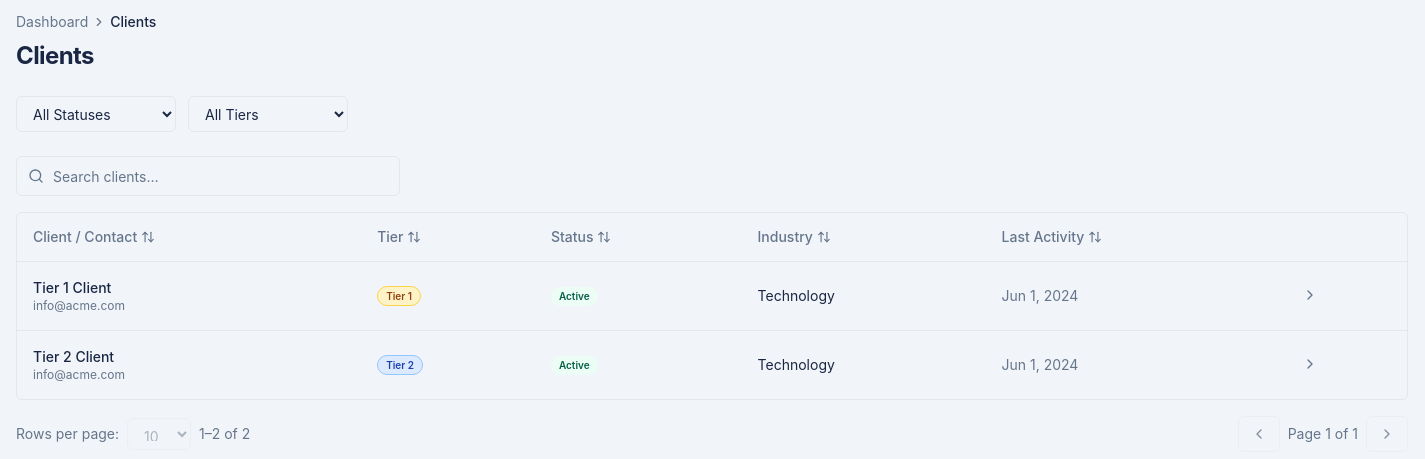
Scenario: ClientsView › filters by tier when tier dropdown changes
This screenshot has width=1425, height=459.
Select "Tier 1" in the dropdown named "Filter by tier". click: (268, 114)
box: [188,96,348,132]
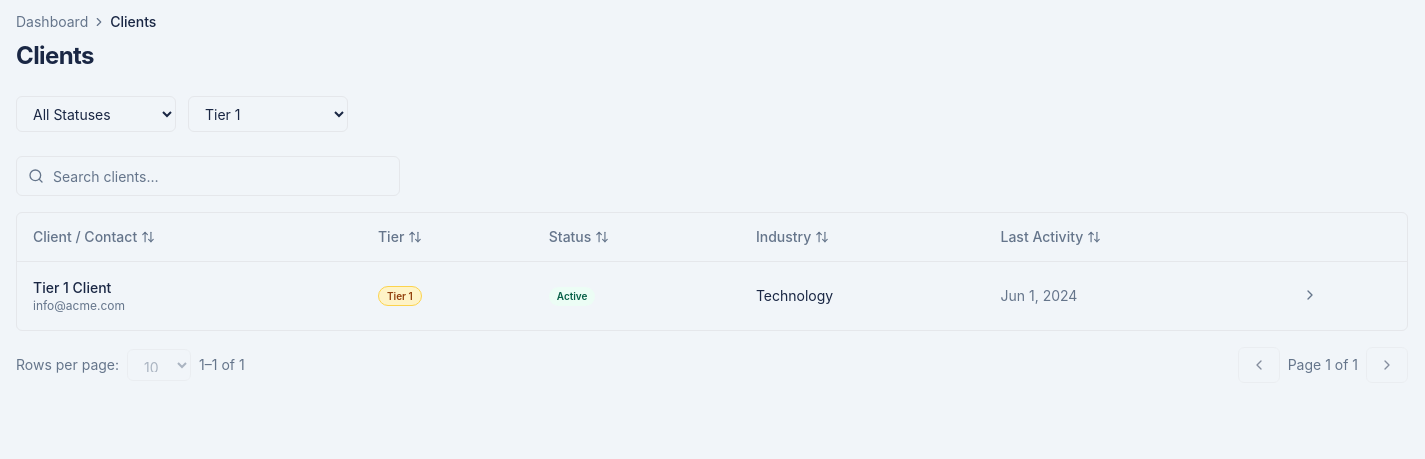
Expected: the text "Tier 1 Client" is shown, [33,278,111,296]
Result: the text "Tier 2 Client" is gone
